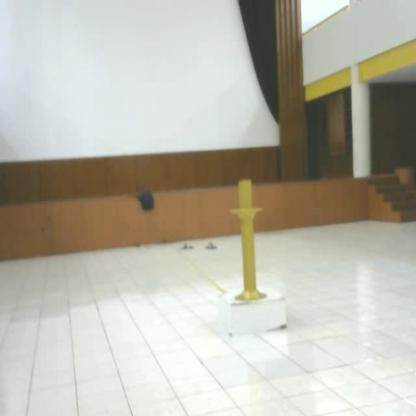pole: (225, 173, 274, 309)
